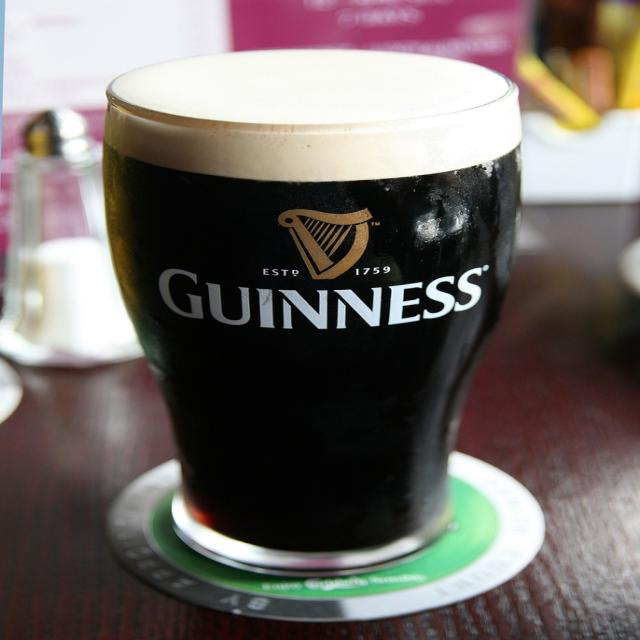guiness: (153, 204, 496, 336)
